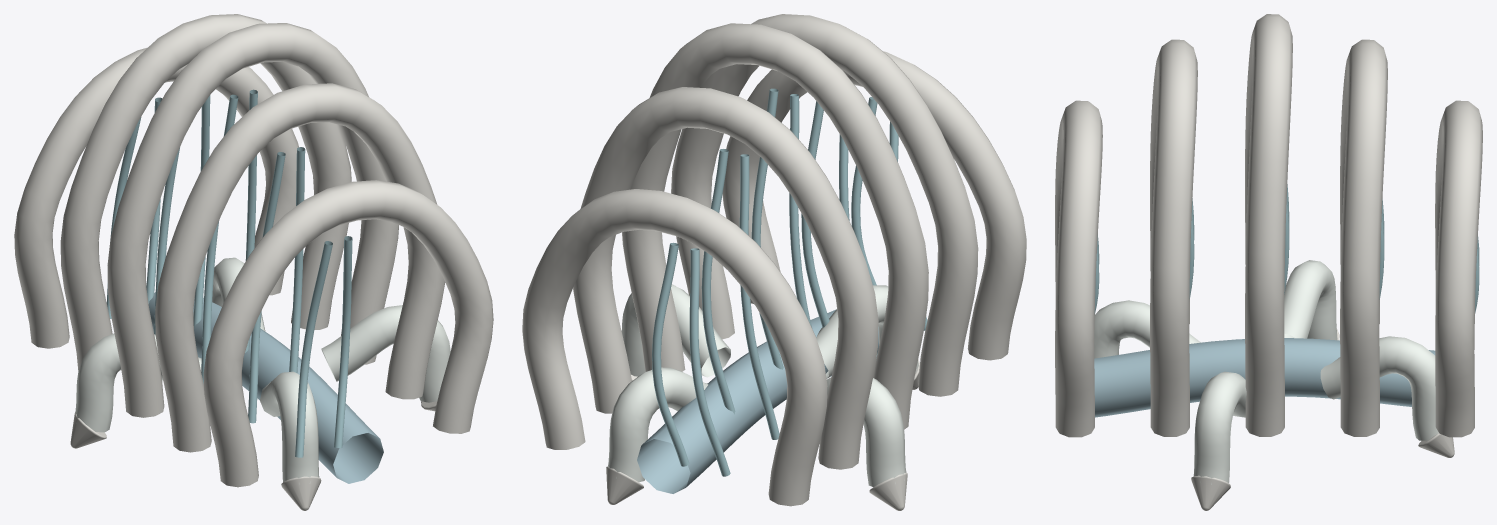
The model's file is bio_blind_harp_07_near.glb.
3 renders of one model, left to right at view 1: azimuth 30°, elevation 25°; view 2: azimuth 150°, elevation 25°; view 3: azimuth 270°, elevation 25°, orthographic. The views are drawn at different scales.
Parts seen in each view (by area): view 1: Open rib arch.001, Open rib arch.002, Open rib arch, Open rib arch.003, Open rib arch.004, Low axial spine, Crooked support.003, Resonance filament, Crooked support.002, Crooked support.001, Resonance filament.002, Resonance filament.004 (+5 smaller); view 2: Open rib arch.003, Open rib arch.002, Open rib arch.004, Open rib arch.001, Open rib arch, Low axial spine, Crooked support, Resonance filament.008, Resonance filament.006, Crooked support.001, Crooked support.003, Resonance filament.004 (+5 smaller); view 3: Open rib arch.002, Open rib arch.003, Open rib arch.001, Open rib arch.004, Open rib arch, Low axial spine, Crooked support, Crooked support.003, Crooked support.001, Crooked support.002, Contact spur.003, Contact spur.
Part boxes in pixels (left/top/right/bottom): Open rib arch.001: left=155, top=83, right=445, bottom=452; Open rib arch.002: left=107, top=23, right=398, bottom=417; Open rib arch: left=203, top=180, right=493, bottom=487; Open rib arch.003: left=60, top=14, right=351, bottom=377; Open rib arch.004: left=14, top=47, right=298, bottom=348; Low axial spine: left=148, top=292, right=383, bottom=483; Crooked support.003: left=321, top=305, right=450, bottom=402; Resonance filament: left=295, top=236, right=352, bottom=457; Crooked support.002: left=260, top=371, right=319, bottom=484; Crooked support.001: left=75, top=333, right=201, bottom=432; Resonance filament.002: left=248, top=147, right=305, bottom=423; Resonance filament.004: left=201, top=89, right=257, bottom=383; Open rib arch.003: left=573, top=87, right=878, bottom=469; Open rib arch.002: left=622, top=23, right=928, bottom=429; Open rib arch.004: left=522, top=189, right=827, bottom=506; Open rib arch.001: left=671, top=14, right=978, bottom=396; Open rib arch: left=722, top=51, right=1026, bottom=360; Low axial spine: left=637, top=309, right=878, bottom=493; Crooked support: left=608, top=367, right=708, bottom=482; Resonance filament.008: left=652, top=242, right=730, bottom=476; Resonance filament.006: left=701, top=149, right=779, bottom=439; Crooked support.001: left=826, top=377, right=906, bottom=486; Crooked support.003: left=621, top=284, right=730, bottom=377; Resonance filament.004: left=751, top=88, right=812, bottom=369; Open rib arch.002: left=1245, top=14, right=1292, bottom=436; Open rib arch.003: left=1340, top=39, right=1387, bottom=436; Open rib arch.001: left=1150, top=39, right=1197, bottom=436; Open rib arch.004: left=1435, top=100, right=1482, bottom=437; Open rib arch: left=1055, top=100, right=1102, bottom=437; Low axial spine: left=1094, top=338, right=1435, bottom=417; Crooked support: left=1320, top=336, right=1438, bottom=440; Crooked support.003: left=1193, top=371, right=1246, bottom=484; Crooked support.001: left=1284, top=260, right=1337, bottom=340; Crooked support.002: left=1094, top=300, right=1200, bottom=358; Contact spur.003: left=1191, top=475, right=1230, bottom=510; Contact spur: left=1418, top=433, right=1454, bottom=457.
Size of the model in its own units: 1.93 by 2.27 by 2.18.
